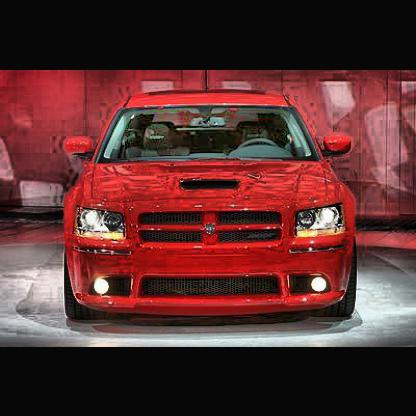Dodge Magnum Wagon 2008: (68, 90, 359, 330)
